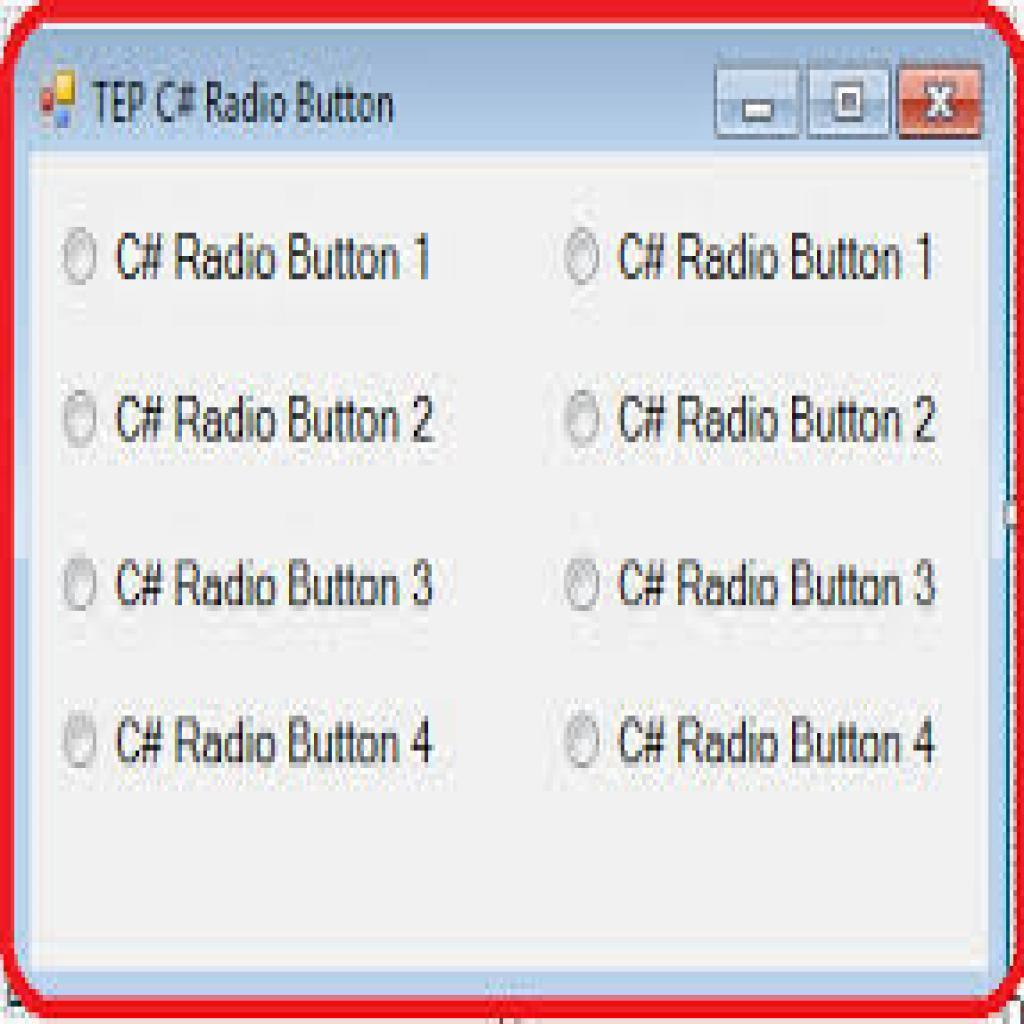label: (613, 551, 938, 618), (619, 224, 938, 292), (114, 390, 438, 456), (117, 713, 438, 779), (610, 394, 945, 457), (109, 224, 438, 288), (615, 711, 944, 773), (119, 554, 436, 616)
radio: (560, 385, 605, 453), (63, 389, 105, 454), (61, 227, 104, 290), (563, 707, 605, 771), (63, 552, 102, 617), (563, 554, 604, 615), (59, 711, 101, 770), (565, 222, 602, 288)
